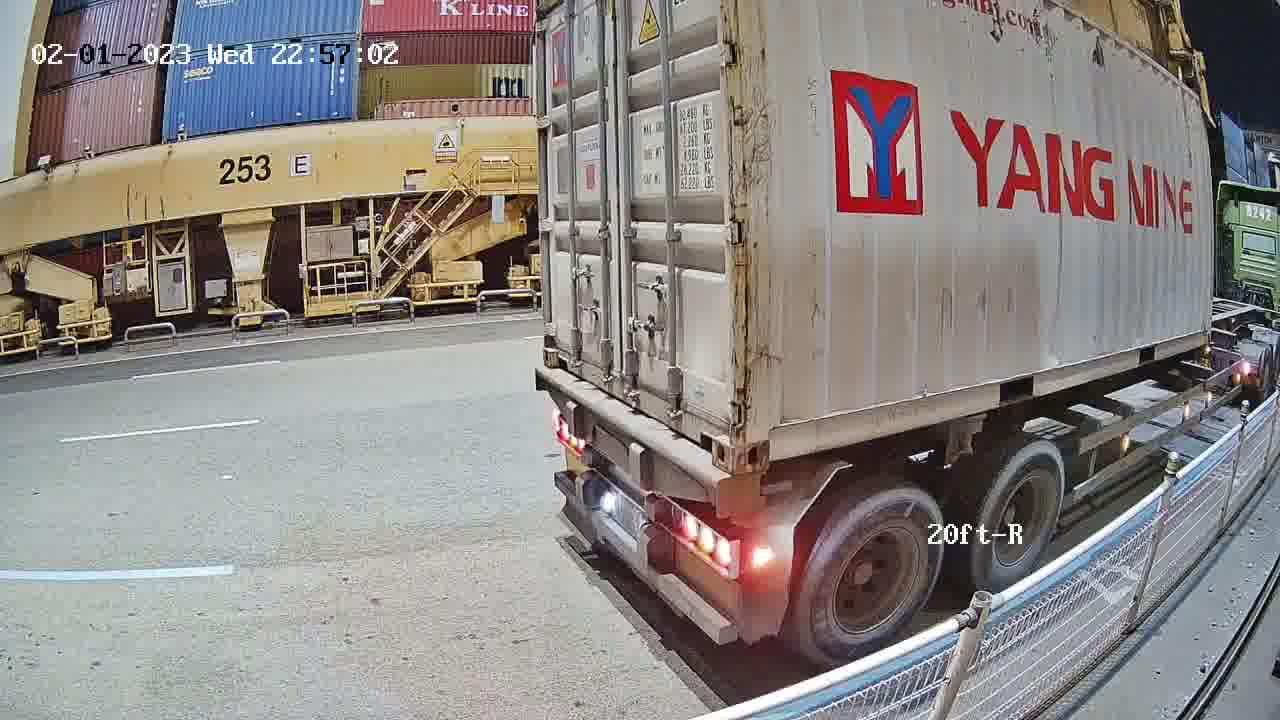Chassis: (539, 365, 770, 504)
Cone: (731, 468, 771, 514)
Hole_L: (736, 392, 804, 475), (542, 322, 575, 378)
Hole_R: (691, 384, 736, 477)
Tire: (802, 488, 945, 670), (975, 443, 1066, 594)
